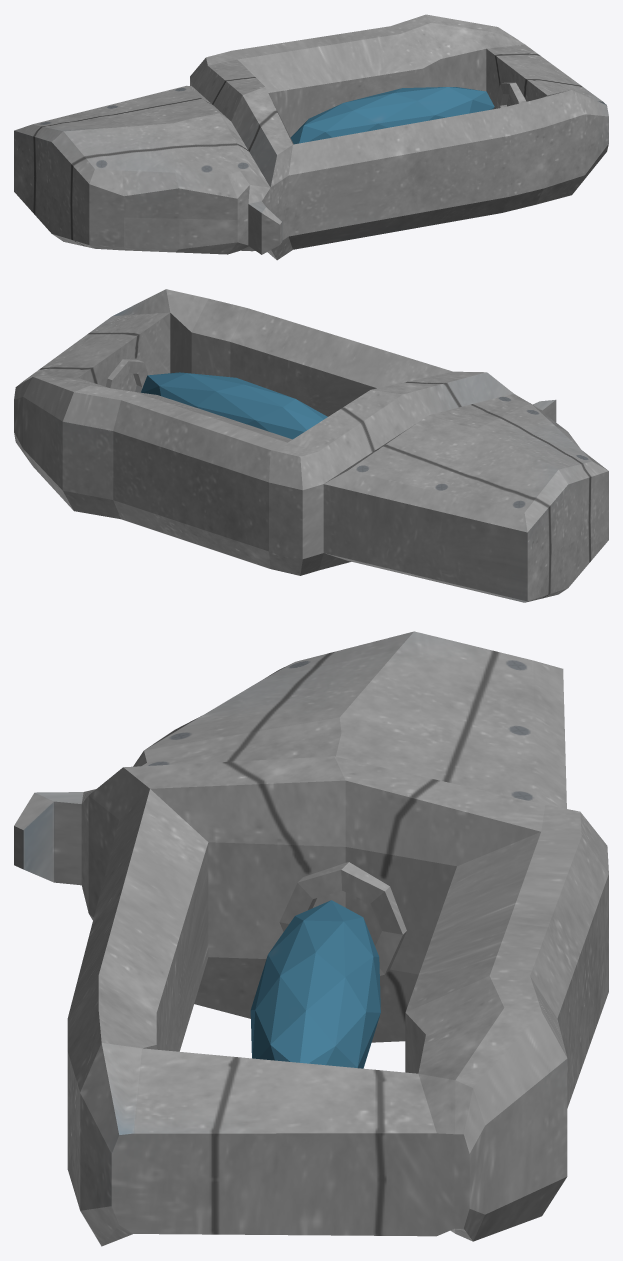
File: Energy_Reciever.fbx
3 views of the same model, one above another, from view 1: azimuth 30°, elevation 25°; view 2: azimuth 150°, elevation 25°; view 3: azimuth 270°, elevation 25° (orthographic). The views are drawn at different scales.
Visible parts, largest first — view 1: receiver_laser.001; view 2: receiver_laser.001; view 3: receiver_laser.001.
Part boxes in pixels (x1=…): receiver_laser.001: x1=14, y1=14, x2=608, y2=260; receiver_laser.001: x1=14, y1=289, x2=608, y2=602; receiver_laser.001: x1=14, y1=631, x2=608, y2=1246.
Bounding box in the file's own units: 160 × 43.37 × 88.86.
